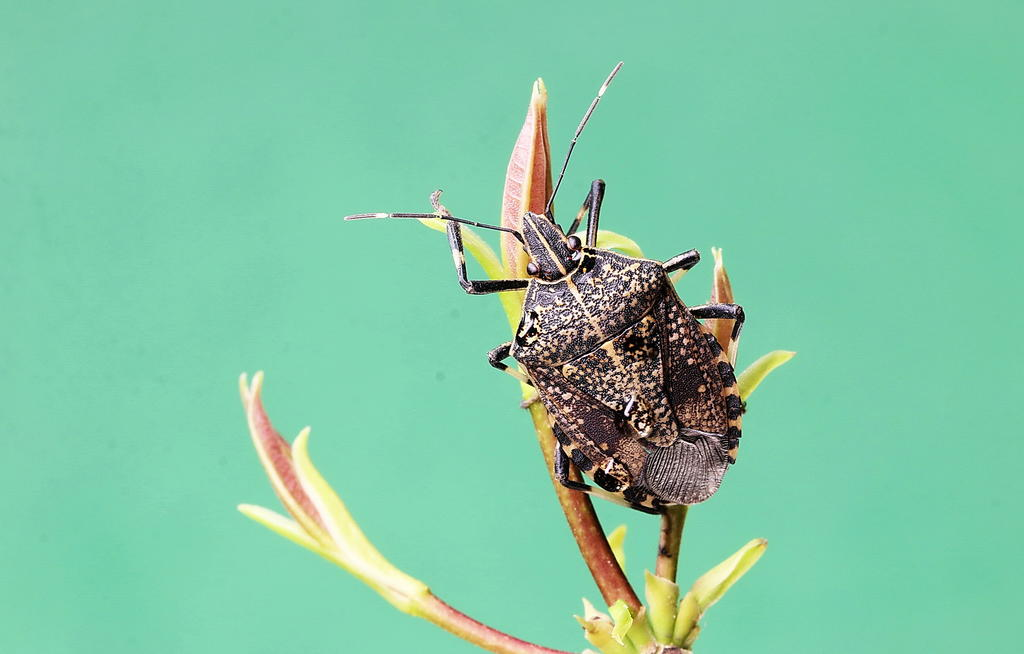chunchong: (418, 178, 768, 520)
